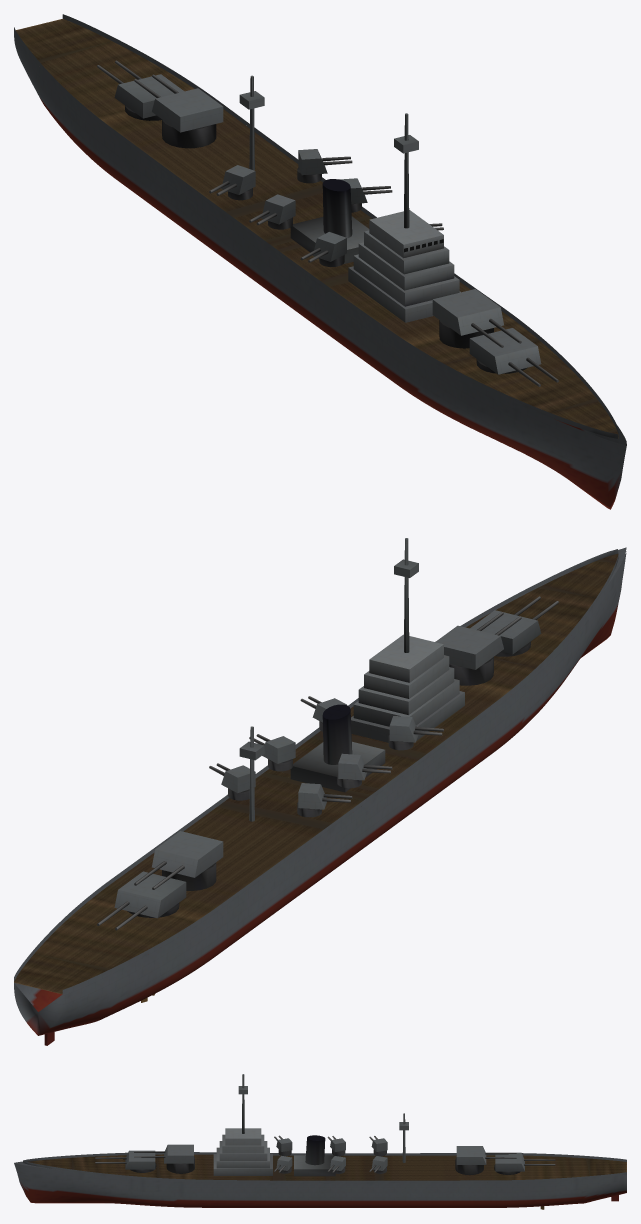
The model's file is model_built.glb.
3 renders of one model, top to bottom at view 1: azimuth 30°, elevation 25°; view 2: azimuth 150°, elevation 25°; view 3: azimuth 270°, elevation 25°, orthographic. The views are drawn at different scales.
Parts seen in each view (by area): view 1: main; view 2: main; view 3: main.
Part boxes in pixels (x1,y1,x2,y2): main: (14, 14, 626, 509); main: (14, 538, 626, 1045); main: (14, 1074, 626, 1209).
Bounding box in the file's own units: 28.54 × 47.78 × 206.
Materials: 2 (2 with a texture image).
